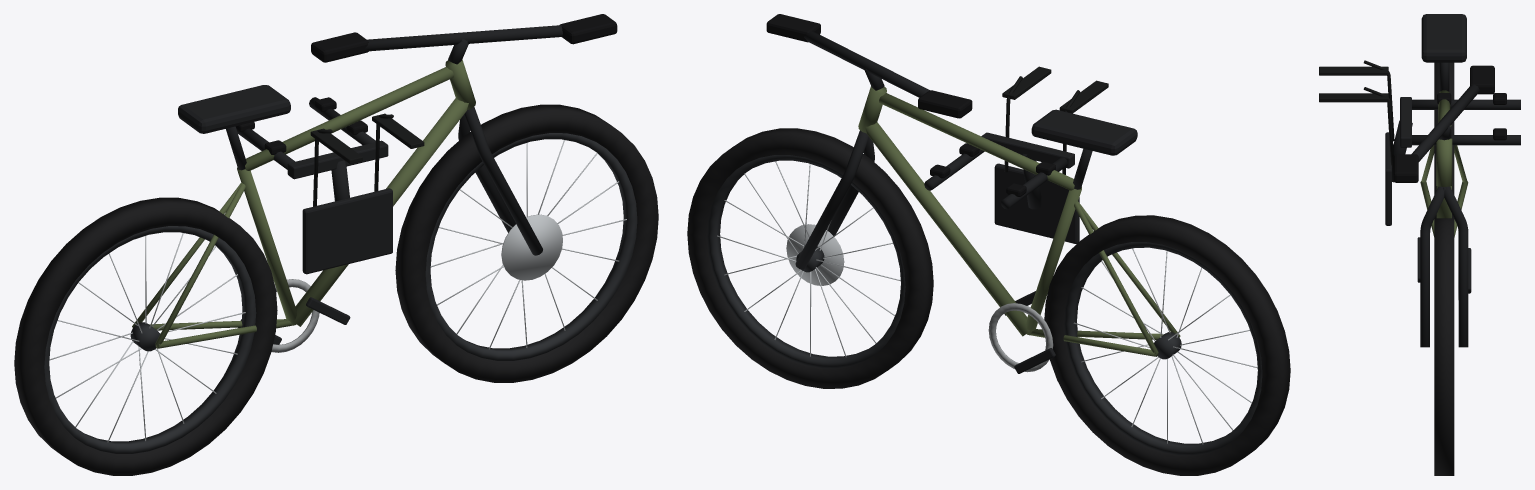
The model's file is carrier_yakima_spareride.glb.
3 views of the same model, side by side, from view 1: azimuth 30°, elevation 25°; view 2: azimuth 150°, elevation 25°; view 3: azimuth 270°, elevation 25° (orthographic). The views are drawn at different scales.
Parts seen in each view (by area): view 1: bike0RTyre.003, bike0FTyre.003, bike0FRim.003, bike0RRim.003, clampPlate, bike0Saddle.003, bike0Down.003, bike0FDisc.003, bike0Top.003, bike0Bar.003, bike0Seat.003, bike0Fork1.003 (+11 smaller); view 2: bike0RTyre.003, bike0FTyre.003, bike0FRim.003, bike0RRim.003, bike0Down.003, clampPlate, bike0Saddle.003, bike0Top.003, bike0FDisc.003, bike0Fork-1.003, bike0Seat.003, bike0Bar.003 (+10 smaller); view 3: bike0FTyre.003, bike0Saddle.003, bike0Fork-1.003, bike0Fork1.003, bike0Bar.003, bike0RTyre.003, arm-1.002, arm1.002, bike0Head.003, bike0Grip1.003, strapTop1, strapTop-1 (+10 smaller).
Boxes of the visible parts, box(x1,y1,x2,y2) form: bike0RTyre.003: box(14, 197, 277, 475); bike0FTyre.003: box(395, 104, 658, 382); bike0FRim.003: box(425, 133, 637, 360); bike0RRim.003: box(44, 226, 256, 453); clampPlate: box(302, 188, 392, 274); bike0Saddle.003: box(178, 85, 290, 133); bike0Down.003: box(293, 98, 468, 326); bike0FDisc.003: box(501, 214, 562, 280); bike0Top.003: box(245, 67, 453, 170); bike0Bar.003: box(365, 25, 562, 51); bike0Seat.003: box(237, 167, 296, 325); bike0Fork1.003: box(464, 107, 542, 255); bike0RTyre.003: box(1044, 215, 1290, 475); bike0FTyre.003: box(687, 128, 933, 388); bike0FRim.003: box(707, 155, 905, 368); bike0RRim.003: box(1064, 242, 1262, 455); bike0Down.003: box(865, 122, 1029, 336); clampPlate: box(994, 163, 1079, 243); bike0Saddle.003: box(1031, 109, 1137, 155); bike0Top.003: box(879, 93, 1074, 190); bike0FDisc.003: box(786, 224, 844, 285); bike0Fork-1.003: box(795, 130, 868, 269); bike0Seat.003: box(1026, 187, 1081, 335); bike0Bar.003: box(804, 31, 929, 97); bike0FTyre.003: box(1434, 218, 1454, 475); bike0Saddle.003: box(1421, 14, 1466, 62); bike0Fork-1.003: box(1443, 186, 1468, 347); bike0Fork1.003: box(1420, 186, 1445, 347); bike0Bar.003: box(1411, 84, 1479, 161); bike0RTyre.003: box(1434, 62, 1454, 218); arm-1.002: box(1411, 99, 1520, 109); arm1.002: box(1411, 135, 1520, 145); bike0Head.003: box(1436, 138, 1452, 186); bike0Grip1.003: box(1393, 154, 1418, 182); strapTop1: box(1319, 93, 1388, 102); strapTop-1: box(1319, 66, 1388, 75).
Size of the model in its own units: 1.86 by 1.01 by 0.58.
